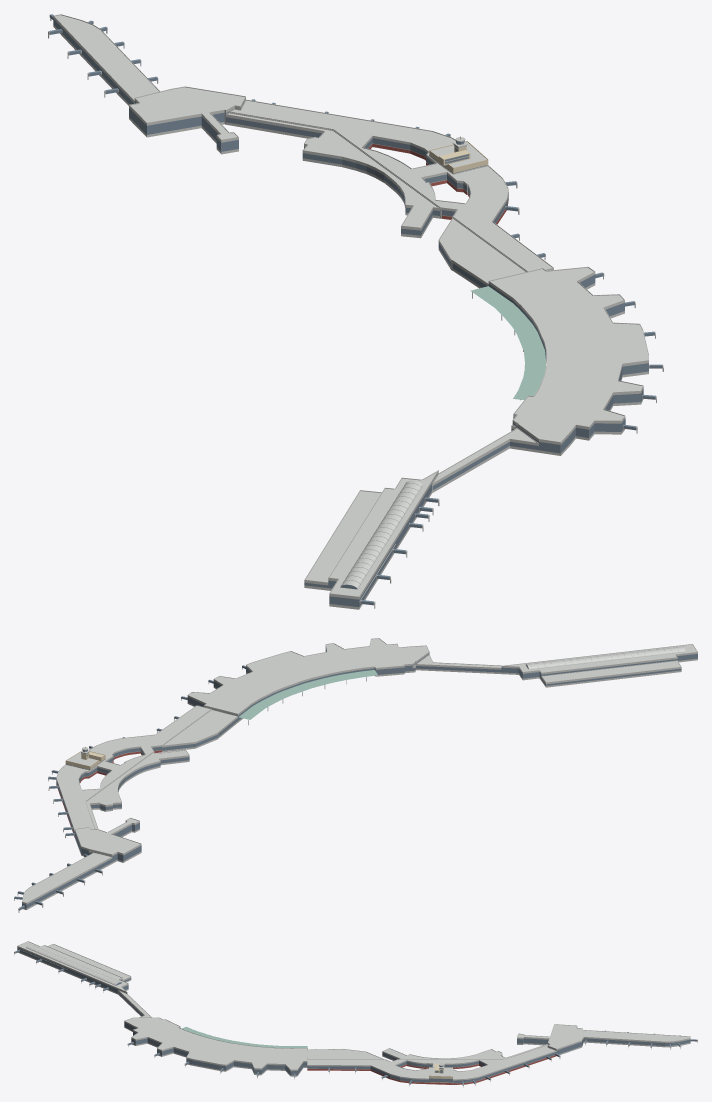
The model's file is madrid-barajas-terminals-1-3.detail.glb.
The picture shows the model from 3 angles, top to bottom: view 1: azimuth 30°, elevation 25°; view 2: azimuth 150°, elevation 25°; view 3: azimuth 270°, elevation 25°; orthographic projection. The views are drawn at different scales.
Parts seen in each view (by area): view 1: Madrid-Barajas Terminals 1-3; view 2: Madrid-Barajas Terminals 1-3; view 3: Madrid-Barajas Terminals 1-3.
Boxes of the visible parts, x1,y1,x2,y2 form: Madrid-Barajas Terminals 1-3: (48, 14, 663, 609); Madrid-Barajas Terminals 1-3: (14, 638, 697, 912); Madrid-Barajas Terminals 1-3: (14, 941, 697, 1087).
Size of the model in its own units: 737 by 42.5 by 1521.
